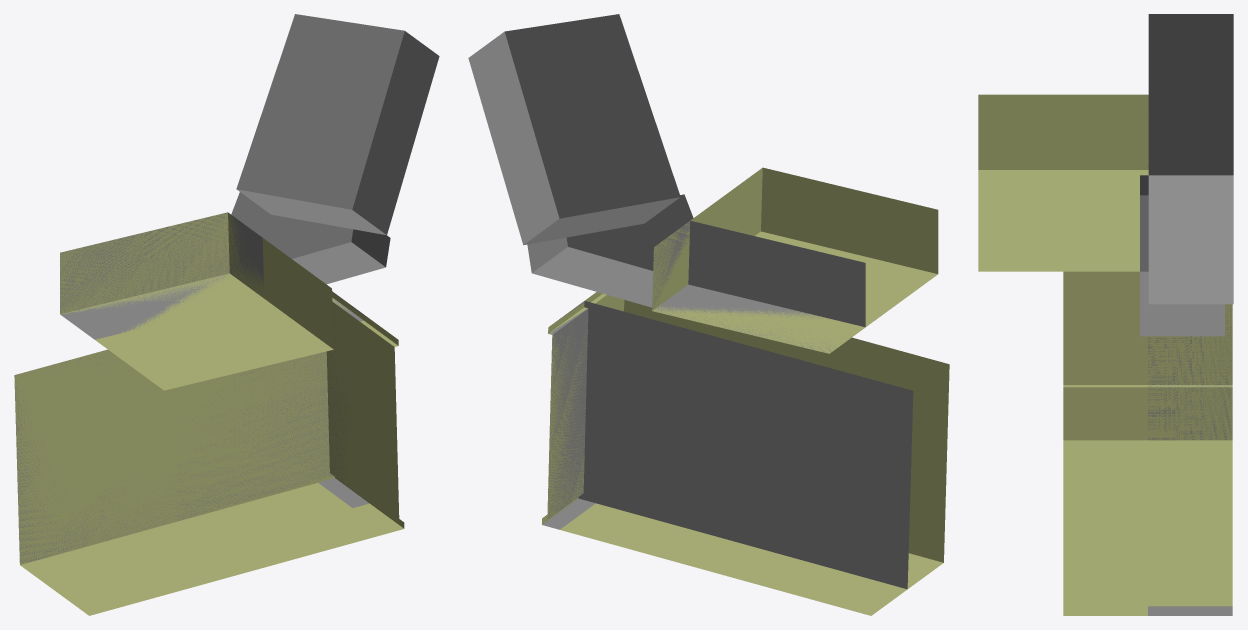
The picture shows the model from 3 angles, left to right: view 1: azimuth 30°, elevation 25°; view 2: azimuth 150°, elevation 25°; view 3: azimuth 270°, elevation 25°; orthographic projection. The views are drawn at different scales.
Parts seen in each view (by area): view 1: 0_1_2_0_3_0_2_3_0_2; view 2: 0_1_2_0_3_0_2_3_0_2; view 3: 0_1_2_0_3_0_2_3_0_2.
Boxes of the visible parts, bbox=[...] form: 0_1_2_0_3_0_2_3_0_2: bbox=[14, 14, 439, 615]; 0_1_2_0_3_0_2_3_0_2: bbox=[468, 14, 949, 615]; 0_1_2_0_3_0_2_3_0_2: bbox=[978, 14, 1233, 615].
Bounding box in the file's own units: 19.49 × 23.06 × 9.03.
